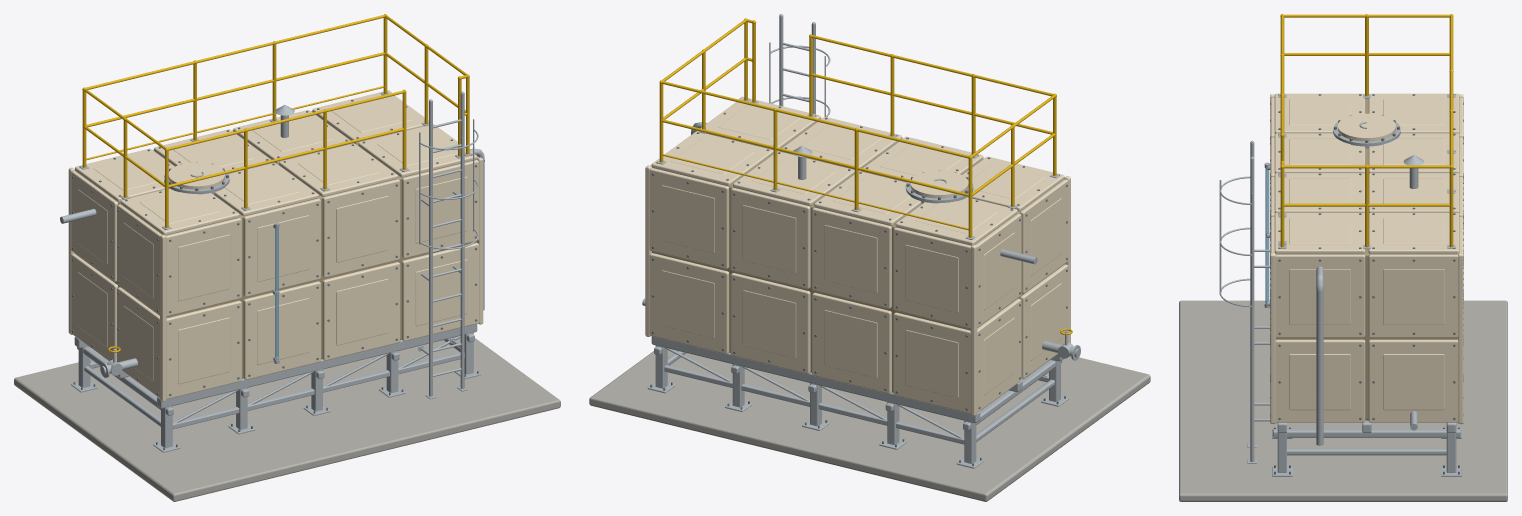
The model's file is tank.glb.
3 views of the same model, side by side, from view 1: azimuth 30°, elevation 25°; view 2: azimuth 150°, elevation 25°; view 3: azimuth 270°, elevation 25° (orthographic). The views are drawn at different scales.
Visible parts, largest first — view 1: concrete_plinth; view 2: concrete_plinth; view 3: concrete_plinth, gauge_tube.
Boxes of the visible parts, box(x1,y1,x2,y2) form: concrete_plinth: box(14, 14, 560, 501); concrete_plinth: box(589, 14, 1150, 501); concrete_plinth: box(1179, 14, 1507, 501); gauge_tube: box(1265, 168, 1269, 303).
Bounding box in the file's own units: 4.9 × 3.71 × 3.5.
2 materials, 2 textured.
